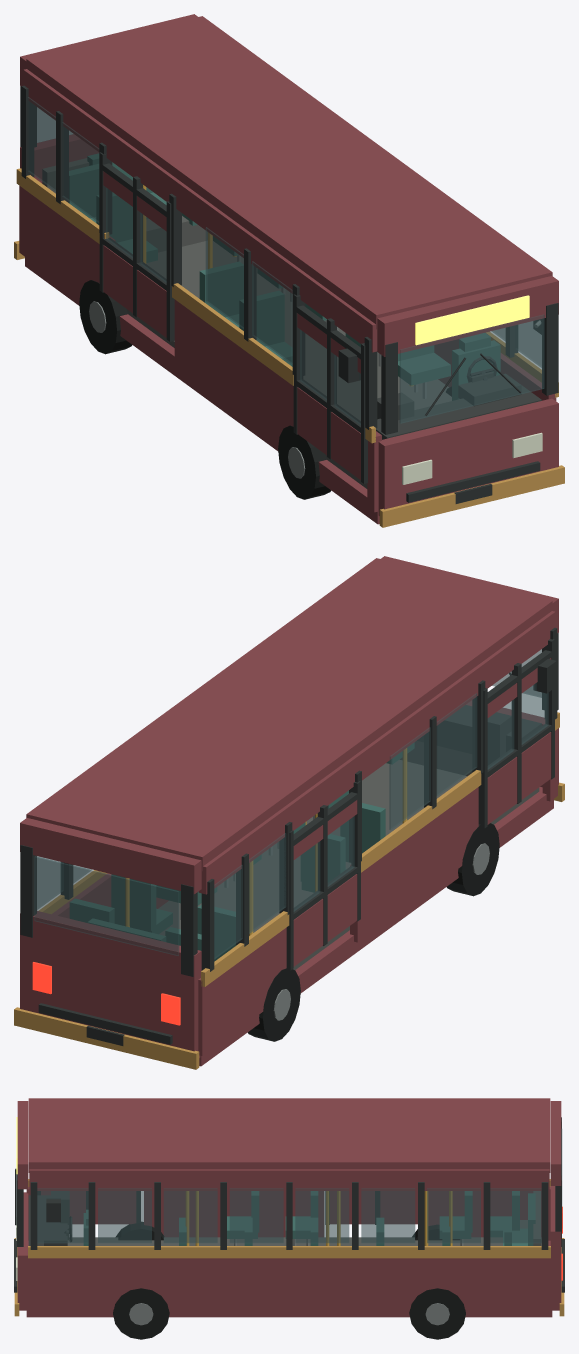
File: CityBus3D.fbx
3 renders of one model, top to bottom at view 1: azimuth 30°, elevation 25°; view 2: azimuth 150°, elevation 25°; view 3: azimuth 270°, elevation 25°, orthographic. The views are drawn at different scales.
Parts seen in each view (by area): view 1: GEO_BodyShell, GLS_Windows, GEO_WindowFrames, INT_PassengerSeats, GEO_BodyAccent, INT_InteriorSurfaces, INT_Dashboard, GEO_RearDoorFrames, GEO_FrontDoorFrames, GEO_RearDoorPanels, GEO_FrontDoorPanels, GLS_RearDoorGlass (+7 smaller); view 2: GEO_BodyShell, GLS_Windows, GEO_WindowFrames, INT_InteriorSurfaces, INT_PassengerSeats, GEO_BodyAccent, GEO_RearDoorFrames, GEO_FrontDoorFrames, GEO_RearDoorPanels, GEO_FrontDoorPanels, GLS_RearDoorGlass, GLS_FrontDoorGlass (+6 smaller); view 3: GEO_BodyShell, GLS_Windows, GEO_BodyAccent, GEO_WindowFrames, INT_PassengerSeats, INT_InteriorSurfaces, GEO_RearDoorPanels, GEO_TireFL, GEO_TireRL, GEO_FrontDoorPanels, INT_Dashboard, INT_Handrails (+4 smaller).
Boxes of the visible parts, x1,y1,x2,y2 form: GEO_BodyShell: [19, 14, 558, 524]; GLS_Windows: [27, 97, 544, 423]; GEO_WindowFrames: [20, 85, 558, 434]; INT_PassengerSeats: [68, 153, 450, 385]; GEO_BodyAccent: [14, 168, 564, 527]; INT_InteriorSurfaces: [42, 158, 451, 488]; INT_Dashboard: [376, 372, 541, 439]; GEO_RearDoorFrames: [99, 152, 174, 341]; GEO_FrontDoorFrames: [293, 294, 367, 483]; GEO_RearDoorPanels: [103, 171, 166, 337]; GEO_FrontDoorPanels: [297, 313, 360, 479]; GLS_RearDoorGlass: [106, 187, 166, 282]; GEO_BodyShell: [20, 556, 558, 1066]; GLS_Windows: [34, 649, 541, 959]; GEO_WindowFrames: [20, 627, 558, 976]; INT_InteriorSurfaces: [158, 741, 539, 970]; INT_PassengerSeats: [70, 790, 385, 961]; GEO_BodyAccent: [14, 712, 564, 1069]; GEO_RearDoorFrames: [286, 781, 360, 970]; GEO_FrontDoorFrames: [478, 639, 554, 828]; GEO_RearDoorPanels: [293, 800, 357, 966]; GEO_FrontDoorPanels: [487, 658, 551, 824]; GLS_RearDoorGlass: [293, 816, 354, 911]; GLS_FrontDoorGlass: [487, 683, 548, 769]; GEO_BodyShell: [17, 1098, 561, 1317]; GLS_Windows: [16, 1129, 562, 1243]; GEO_BodyAccent: [14, 1179, 564, 1316]; GEO_WindowFrames: [17, 1117, 561, 1249]; INT_PassengerSeats: [179, 1191, 535, 1245]; INT_InteriorSurfaces: [67, 1191, 541, 1245]; GEO_RearDoorPanels: [330, 1191, 417, 1224]; GEO_TireFL: [113, 1288, 169, 1339]; GEO_TireRL: [409, 1288, 465, 1339]; GEO_FrontDoorPanels: [41, 1191, 135, 1224]; INT_Dashboard: [28, 1191, 69, 1245]; INT_Handrails: [186, 1191, 452, 1245].
Bounding box in the file's own units: 272 × 295 × 837.
